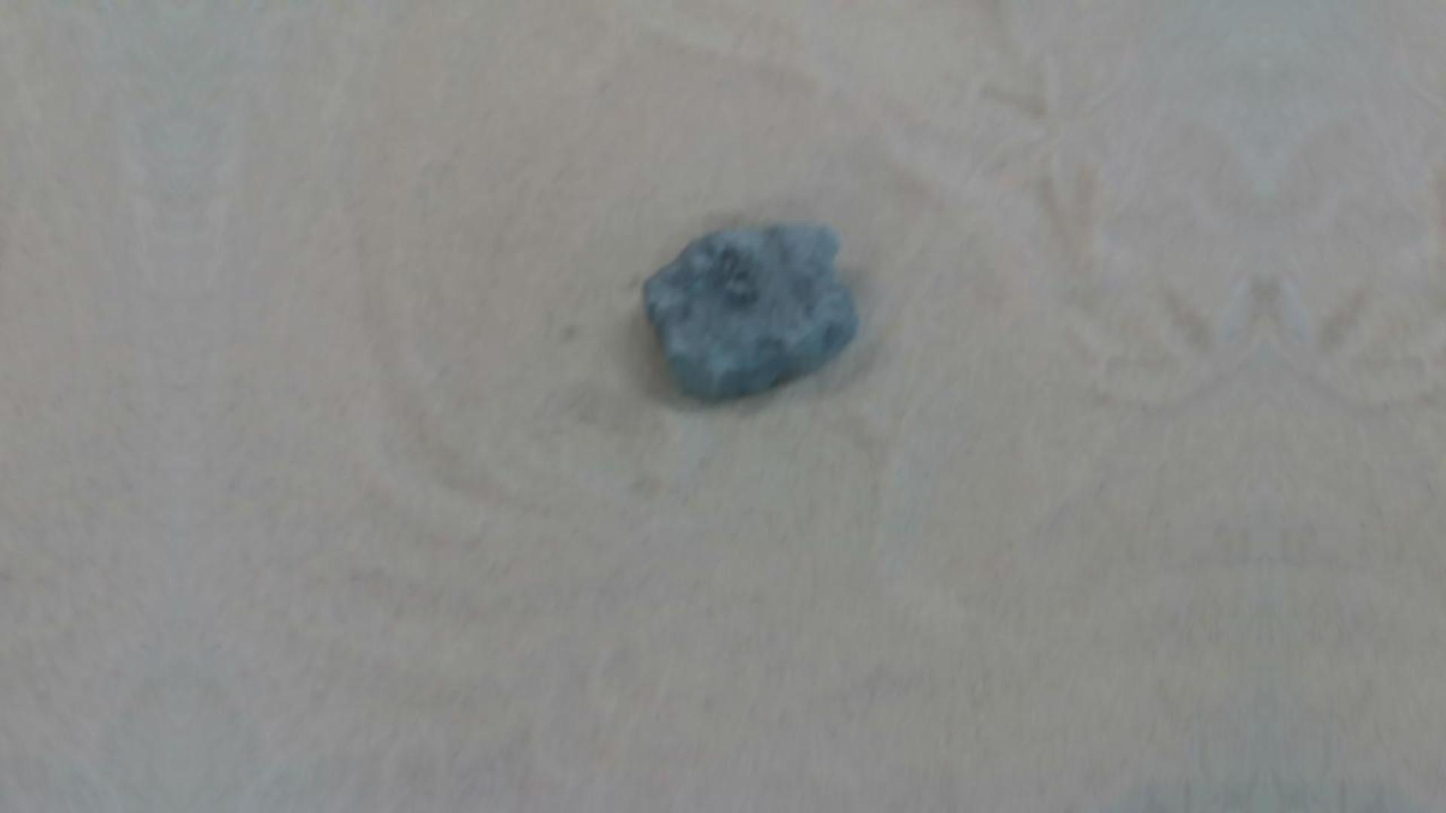rock: (644, 222, 856, 397)
